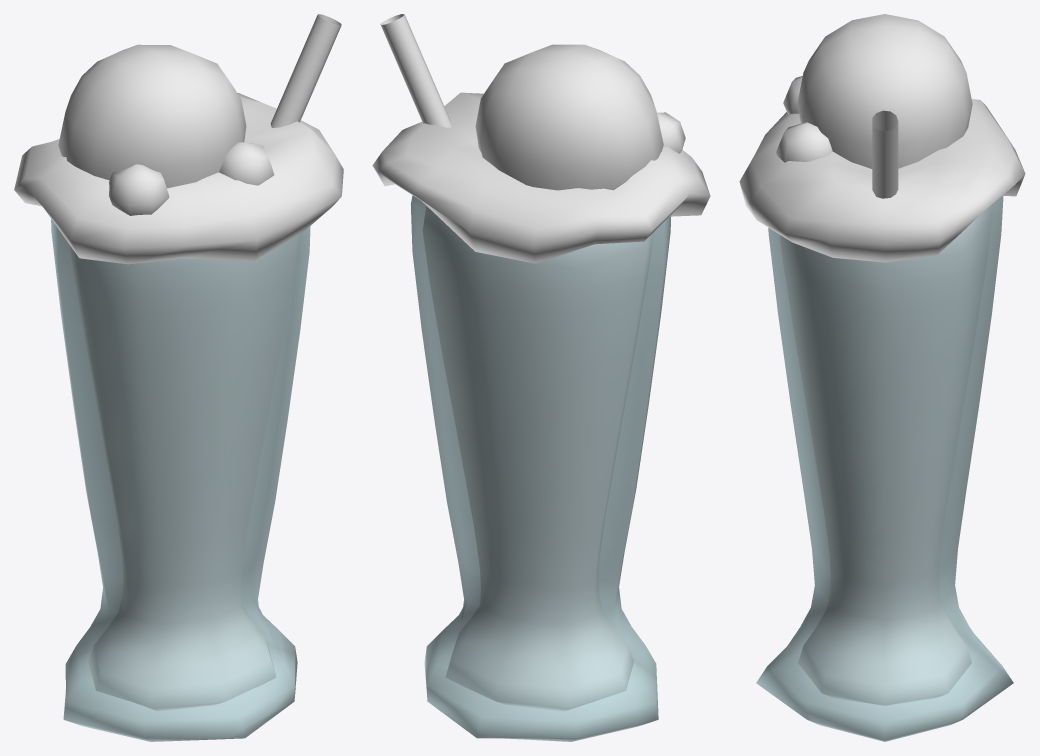
The model's file is M_SodaFloat.fbx.
3 views of the same model, side by side, from view 1: azimuth 30°, elevation 25°; view 2: azimuth 150°, elevation 25°; view 3: azimuth 270°, elevation 25° (orthographic).
Parts seen in each view (by area): view 1: Soda Float, Soda Float.001; view 2: Soda Float, Soda Float.001; view 3: Soda Float, Soda Float.001.
Part boxes in pixels (x1,y1,x2,y2): Soda Float: (14,14,343,710); Soda Float.001: (51,219,310,741); Soda Float: (372,14,710,710); Soda Float.001: (410,195,670,741); Soda Float: (739,14,1025,705); Soda Float.001: (756,196,1013,741).
Size of the model in its own units: 25.1 by 51.75 by 20.18.
